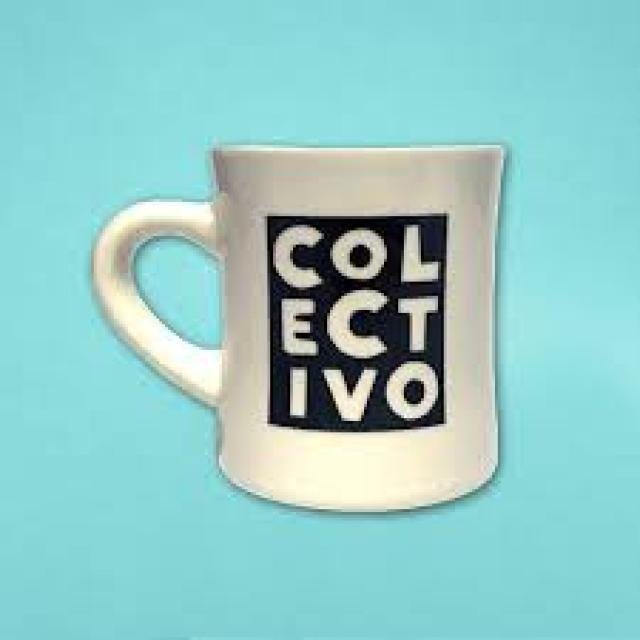taza: (92, 140, 506, 514)
